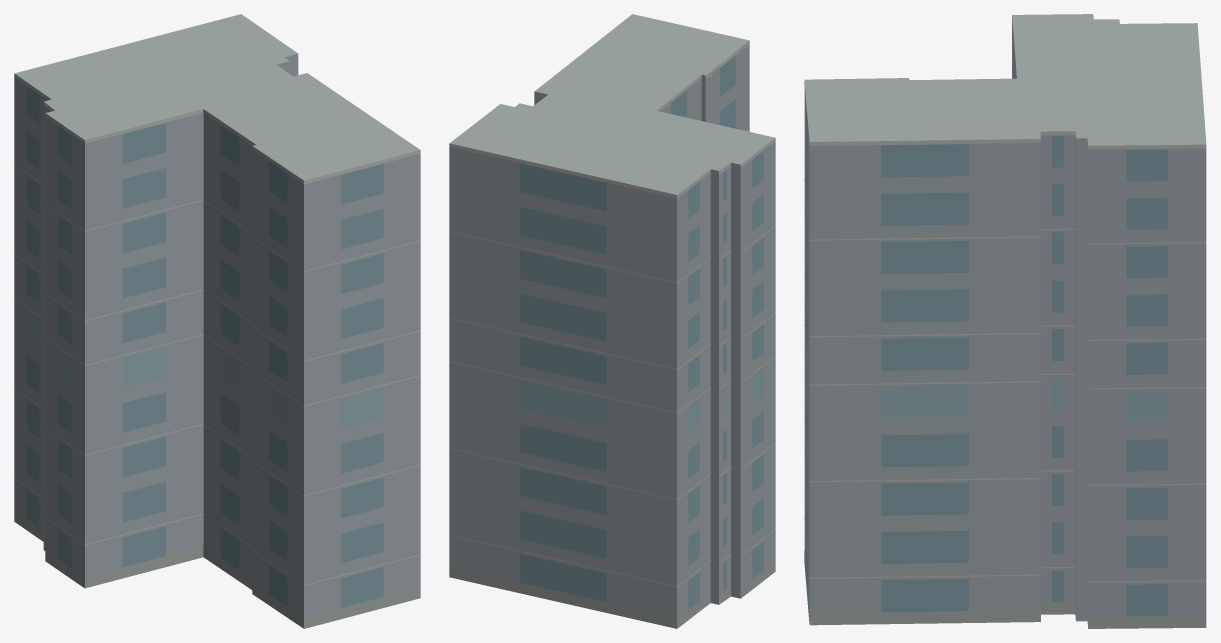
Rendered from survey-upis-32684523.glb.
3 views of the same model, side by side, from view 1: azimuth 30°, elevation 25°; view 2: azimuth 150°, elevation 25°; view 3: azimuth 270°, elevation 25° (orthographic). The views are drawn at different scales.
Parts seen in each view (by area): view 1: survey-upis-32684523.tmp; view 2: survey-upis-32684523.tmp; view 3: survey-upis-32684523.tmp.
Part boxes in pixels (x1,y1,x2,y2): survey-upis-32684523.tmp: (14,14,420,628); survey-upis-32684523.tmp: (449,14,775,628); survey-upis-32684523.tmp: (804,14,1206,628).
Bounding box in the file's own units: 17.46 × 29.8 × 22.5.
